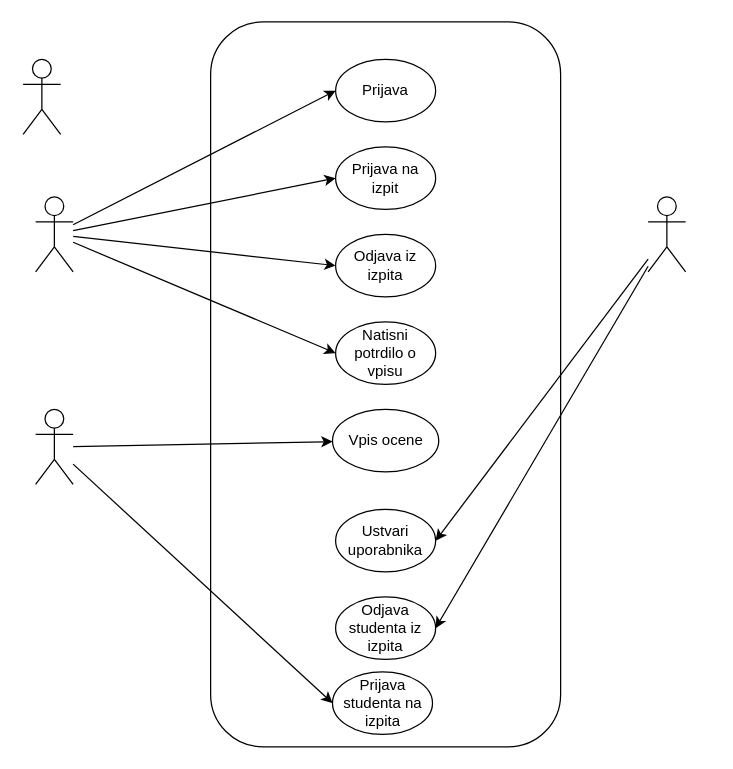
Some shapes in this 733 by 769 pixel diagram are drawn without their labels. The shapes that lost their labels are listed below. From the top down, each one's box as (x1, y1, x2, y2) in pixels, then its label:
(22, 58, 61, 134): Lovec
(34, 196, 73, 272): Student
(647, 196, 686, 272): Administrator
(34, 408, 73, 484): Profesor
